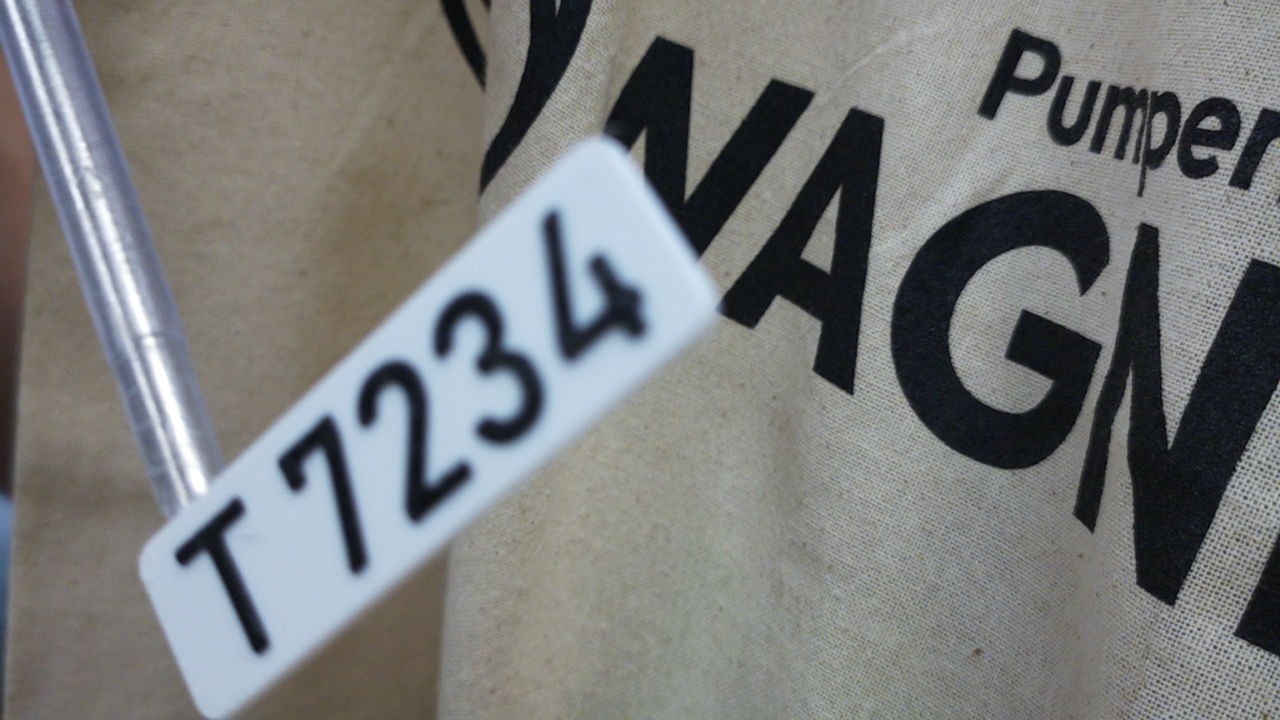license_plate: (134, 134, 725, 720)
